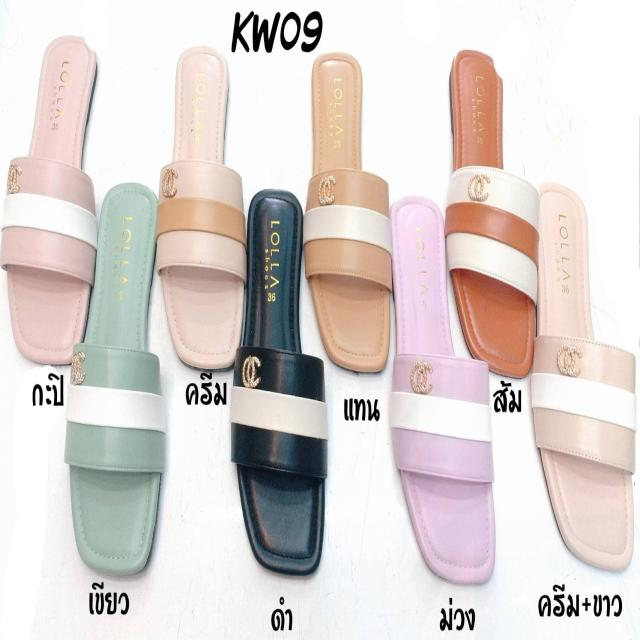black: (236, 190, 326, 577)
cream: (532, 183, 636, 577), (163, 43, 243, 371)
green: (73, 181, 160, 574)
kapi: (9, 35, 92, 359)
orange: (449, 46, 536, 377)
purple: (391, 195, 498, 584)
tan: (306, 55, 394, 373)
